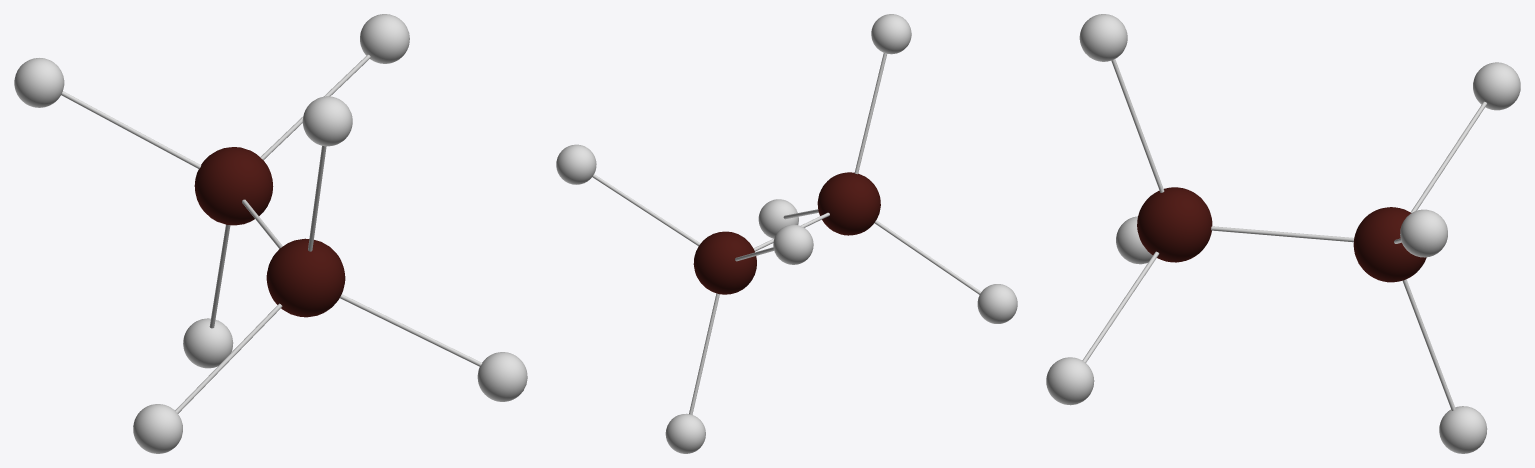
Rendered from ethane.glb.
The picture shows the model from 3 angles, left to right: view 1: azimuth 30°, elevation 25°; view 2: azimuth 150°, elevation 25°; view 3: azimuth 270°, elevation 25°; orthographic projection. The views are drawn at different scales.
Parts seen in each view (by area): view 1: Sphere, Sphere.001, Sphere.006, Sphere.000, Sphere.002, Sphere.003, Sphere.004, Sphere.005, Cylinder.001, Cylinder.006, Cylinder.003, Cylinder.004 (+2 smaller); view 2: Sphere, Sphere.001, Sphere.000, Sphere.006, Sphere.004, Sphere.002, Sphere.005, Sphere.003, Cylinder.003, Cylinder.004, Cylinder.000, Cylinder.005; view 3: Sphere, Sphere.001, Sphere.003, Sphere.004, Sphere.000, Sphere.005, Sphere.006, Sphere.002, Cylinder.002, Cylinder.000, Cylinder.005, Cylinder.001 (+1 smaller).
Part boxes in pixels (x1,y1,x2,y2): Sphere: [266, 238, 345, 317]; Sphere.001: [194, 147, 273, 225]; Sphere.006: [14, 58, 64, 107]; Sphere.000: [302, 96, 352, 146]; Sphere.002: [133, 404, 182, 453]; Sphere.003: [477, 352, 527, 401]; Sphere.004: [360, 14, 409, 63]; Sphere.005: [183, 318, 233, 368]; Cylinder.001: [340, 294, 482, 366]; Cylinder.006: [61, 91, 201, 168]; Cylinder.003: [175, 303, 282, 413]; Cylinder.004: [260, 54, 370, 159]; Sphere: [817, 172, 880, 235]; Sphere.001: [693, 231, 756, 294]; Sphere.000: [871, 14, 911, 54]; Sphere.006: [773, 224, 813, 264]; Sphere.004: [556, 144, 596, 184]; Sphere.002: [977, 284, 1017, 323]; Sphere.005: [665, 413, 705, 453]; Sphere.003: [758, 199, 798, 238]; Cylinder.003: [874, 220, 981, 294]; Cylinder.004: [592, 174, 700, 245]; Cylinder.000: [854, 53, 886, 174]; Cylinder.005: [689, 293, 719, 414]; Sphere: [1137, 187, 1212, 262]; Sphere.001: [1353, 207, 1426, 282]; Sphere.003: [1046, 357, 1094, 405]; Sphere.004: [1400, 209, 1447, 257]; Sphere.000: [1079, 14, 1127, 61]; Sphere.005: [1439, 406, 1487, 453]; Sphere.006: [1473, 62, 1520, 110]; Sphere.002: [1116, 216, 1152, 264]; Cylinder.002: [1211, 226, 1354, 242]; Cylinder.000: [1111, 59, 1164, 192]; Cylinder.005: [1402, 279, 1455, 410]; Cylinder.001: [1082, 251, 1159, 362].
Size of the model in its own units: 1.52 by 1.46 by 1.56.
